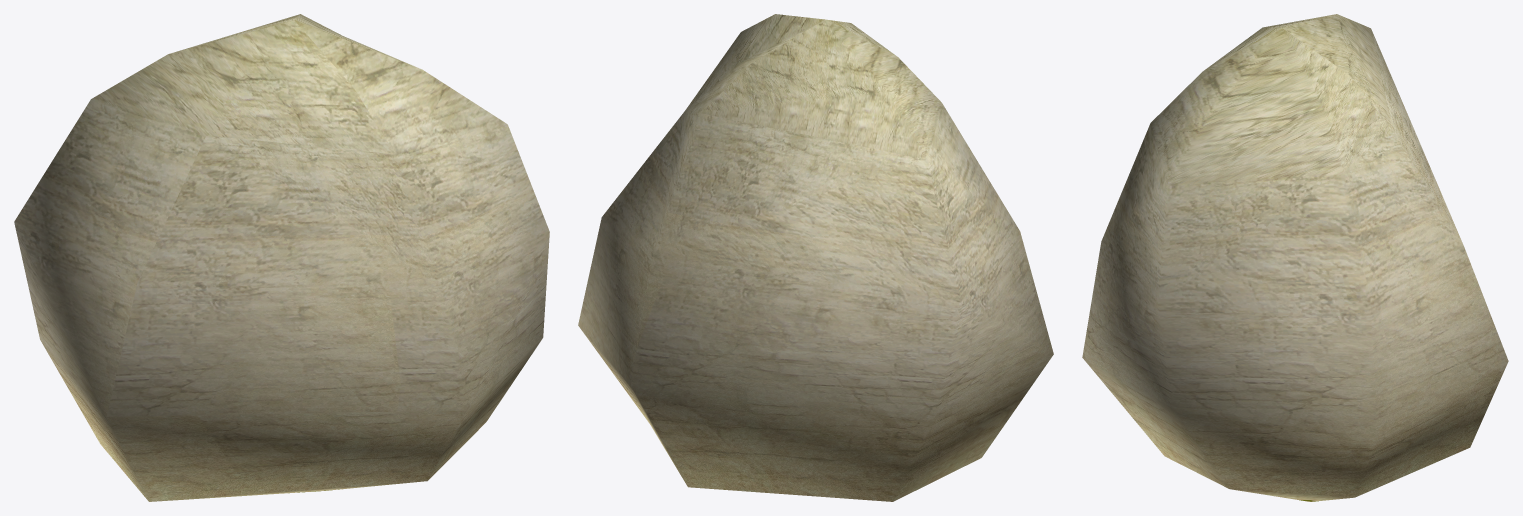
File: coasta.FBX
The picture shows the model from 3 angles, left to right: view 1: azimuth 30°, elevation 25°; view 2: azimuth 150°, elevation 25°; view 3: azimuth 270°, elevation 25°; orthographic projection. The views are drawn at different scales.
Parts seen in each view (by area): view 1: C5SNBOULDER4; view 2: C5SNBOULDER4; view 3: C5SNBOULDER4.
Boxes of the visible parts, box(x1,y1,x2,y2) form: C5SNBOULDER4: box(14, 14, 549, 501); C5SNBOULDER4: box(578, 14, 1053, 501); C5SNBOULDER4: box(1082, 14, 1508, 501).
Bounding box in the file's own units: 10.11 × 11.13 × 9.47.
Materials: 1 (1 with a texture image).
